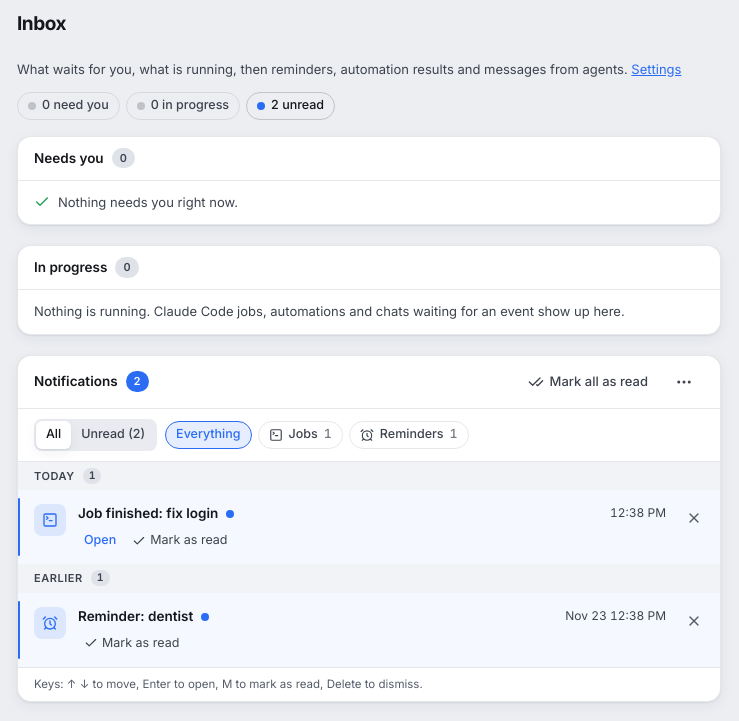
Test case: the Inbox › groups notifications by day and filters them by kind
expect the list named "Today" shows "Job finished: fix login": met, box [78,502,602,523]
expect the list named "Earlier" shows "Reminder: dentist": met, box [78,604,557,626]
Click the button "Reminders 1" at x=409, y=434, box [349,420,469,448]
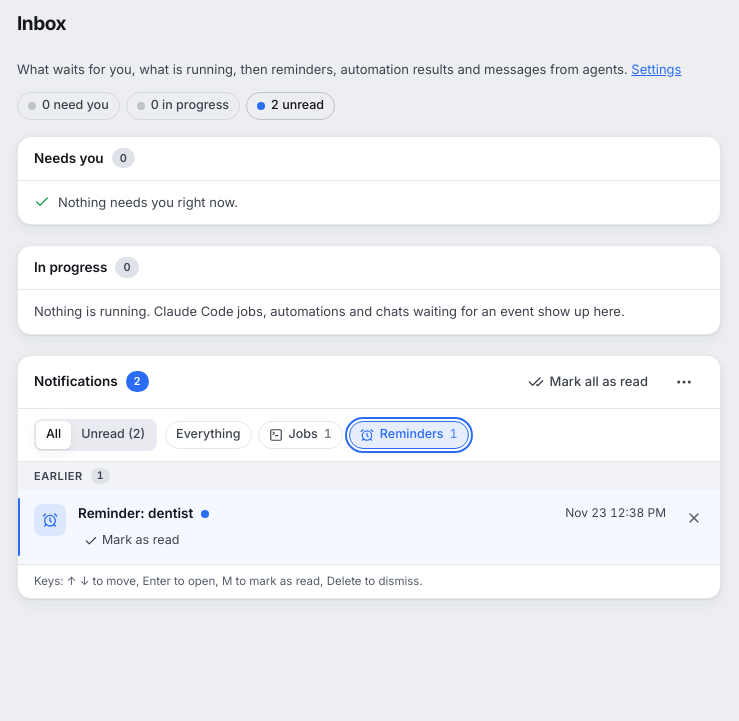
expect the text "Reminder: dentist" is shown: met, box [78,505,193,521]
expect the button "Job finished: fix login" is gone: met
